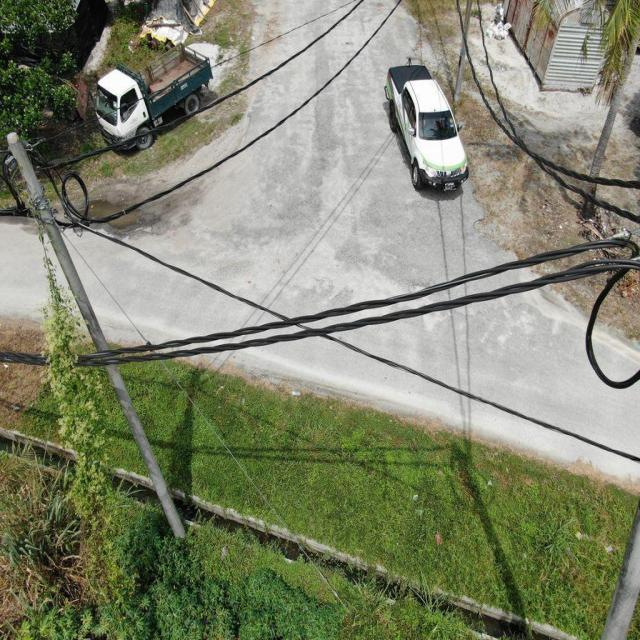light_pole: (25, 167, 131, 576)
